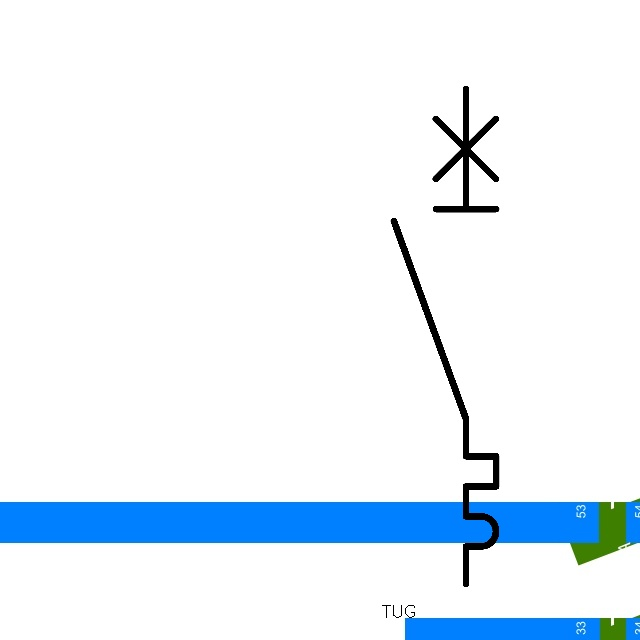interruptor_termomagnetico: (381, 76, 509, 597)
